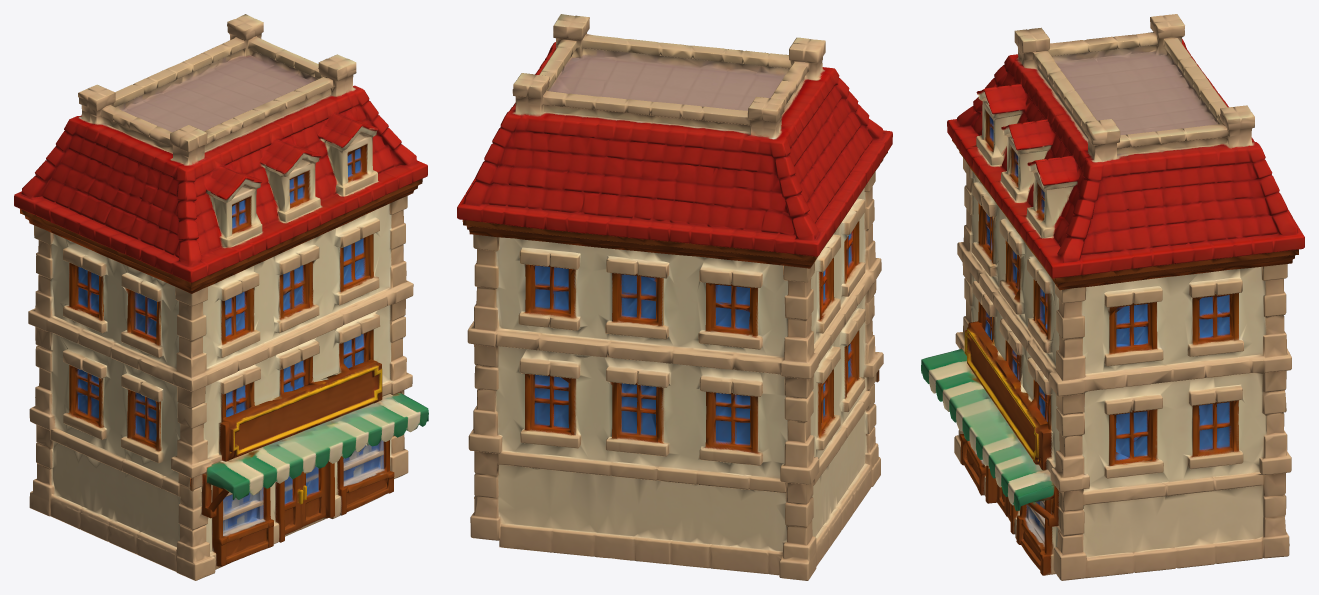
The model's file is shop-3-detail.glb.
3 renders of one model, left to right at view 1: azimuth 30°, elevation 25°; view 2: azimuth 150°, elevation 25°; view 3: azimuth 270°, elevation 25°, orthographic. The views are drawn at different scales.
Parts seen in each view (by area): view 1: tripo_node_bcdbb44b-40af-4833-83d1-edb53f8b43d0; view 2: tripo_node_bcdbb44b-40af-4833-83d1-edb53f8b43d0; view 3: tripo_node_bcdbb44b-40af-4833-83d1-edb53f8b43d0.
Part boxes in pixels (bbox=[...]): tripo_node_bcdbb44b-40af-4833-83d1-edb53f8b43d0: bbox=[14, 14, 428, 580]; tripo_node_bcdbb44b-40af-4833-83d1-edb53f8b43d0: bbox=[457, 14, 892, 580]; tripo_node_bcdbb44b-40af-4833-83d1-edb53f8b43d0: bbox=[921, 14, 1304, 580].
Bounding box in the file's own units: 10.33 × 12 × 9.58.
1 material, 1 textured.
